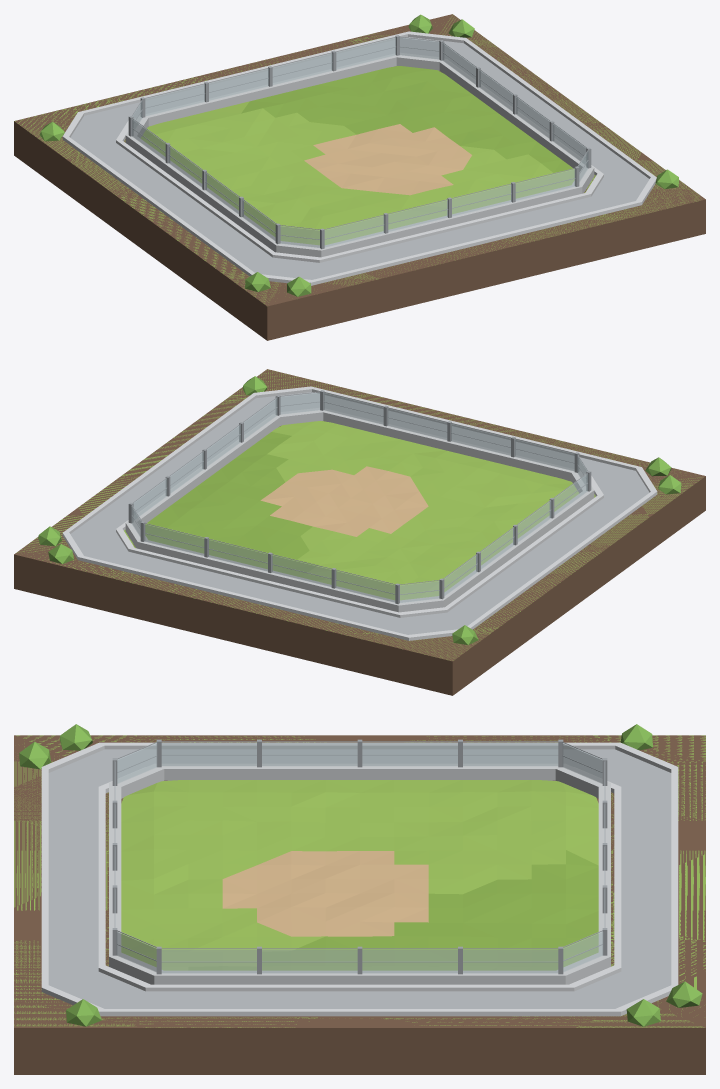
File: enclosure_clean_20x20.glb
3 views of the same model, one above another, from view 1: azimuth 30°, elevation 25°; view 2: azimuth 150°, elevation 25°; view 3: azimuth 270°, elevation 25° (orthographic). The views are drawn at different scales.
Visible parts, largest first — view 1: Terrain_Mesh, Diorama_Base_Sides, Road, Observation_Glass, Fence_Foundation, Curb_Outer, Lawn_Outer, Curb_Inner, Fence_Rails, Fence_Posts; view 2: Terrain_Mesh, Diorama_Base_Sides, Road, Observation_Glass, Fence_Foundation, Curb_Outer, Lawn_Outer, Curb_Inner, Fence_Rails, Fence_Posts; view 3: Terrain_Mesh, Diorama_Base_Sides, Road, Observation_Glass, Fence_Foundation, Curb_Outer, Lawn_Outer, Curb_Inner, Fence_Rails, Fence_Posts, Outer_Bush_3, Outer_Bush_4 (+4 smaller).
Part boxes in pixels (x1,y1,x2,y2): Terrain_Mesh: (141,66,574,244); Diorama_Base_Sides: (14,14,705,340); Road: (70,37,649,279); Observation_Glass: (132,37,588,247); Fence_Foundation: (125,53,594,257); Curb_Outer: (62,31,656,285); Lawn_Outer: (15,15,699,303); Curb_Inner: (116,59,603,262); Fence_Rails: (132,36,588,239); Fence_Posts: (128,35,591,249); Terrain_Mesh: (145,421,578,599); Diorama_Base_Sides: (14,369,705,695); Road: (70,392,649,634); Observation_Glass: (131,392,587,602); Fence_Foundation: (125,408,594,612); Curb_Outer: (62,386,657,640); Lawn_Outer: (16,369,701,660); Curb_Inner: (116,414,603,617); Fence_Rails: (131,391,587,594); Fence_Posts: (128,390,591,604); Terrain_Mesh: (121,780,598,970); Diorama_Base_Sides: (14,735,705,1074); Road: (48,749,671,1008); Observation_Glass: (115,742,604,973); Fence_Foundation: (109,764,610,984); Curb_Outer: (41,742,678,1016); Lawn_Outer: (14,735,705,1027); Curb_Inner: (98,767,621,991); Fence_Rails: (114,741,605,962); Fence_Posts: (112,739,607,974); Outer_Bush_3: (66,999,101,1026); Outer_Bush_4: (626,999,660,1026).
Bounding box in the file's own units: 20 × 2.7 × 20.
